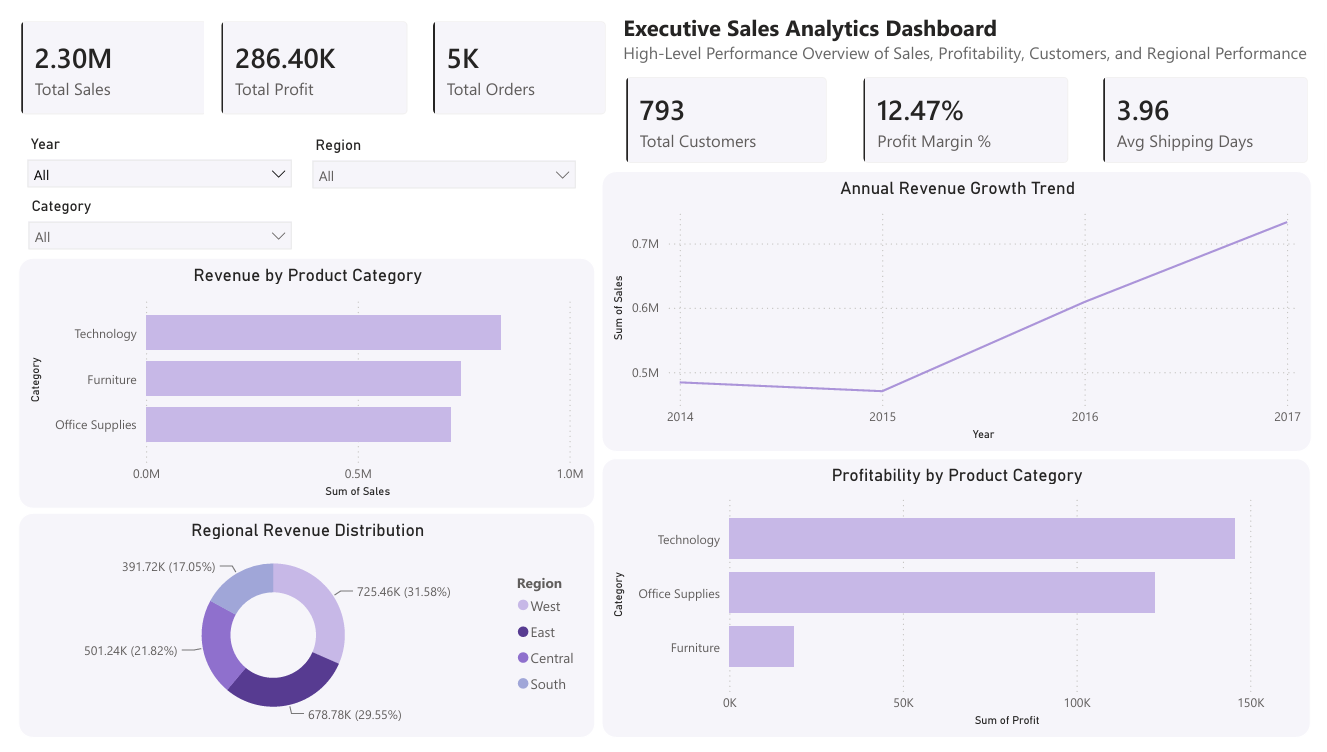

This screenshot's page, from the dashboard's own definition file:
{"tool":"powerbi","page":{"name":"Executive Sales Analytics Dashboard","canvas":[1280,720],"ordinal":0},"visuals":[{"type":"cardVisual","fields":{"Data":["Measure Table.Total Sales"]},"box":[0,0.7,214.3,124.3],"z":0},{"type":"cardVisual","fields":{"Data":["Measure Table.Total Profit"]},"box":[194.3,0,214.3,124.3],"z":1000},{"type":"cardVisual","fields":{"Data":["Measure Table.Total Orders"]},"box":[398.6,0,201.4,124.3],"z":2000},{"type":"cardVisual","fields":{"Data":["Measure Table.Total Customers"]},"box":[585.7,53.8,228.7,117.4],"z":3000},{"type":"cardVisual","fields":{"Data":["Measure Table.Profit Margin %"]},"box":[816.2,53.8,232.5,117.5],"z":4000},{"type":"cardVisual","fields":{"Data":["Measure Table.Avg Shipping Days"]},"box":[1048,53.8,232.3,117.4],"z":5000},{"type":"barChart","title":"Revenue by Product Category","fields":{"Category":["Sample - Superstore.Category"],"Y":["Sum(Sample - Superstore.Sales)"]},"box":[7.1,245.7,565.7,243.6],"z":6000},{"type":"barChart","title":"Profitability by Product Category","fields":{"Category":["Sample - Superstore.Category"],"Y":["Sum(Sample - Superstore.Profit)"]},"box":[579.4,440,696.2,271.2],"z":7000},{"type":"donutChart","title":"Regional Revenue Distribution","fields":{"Category":["Sample - Superstore.Region"],"Y":["Sum(Sample - Superstore.Sales)"]},"box":[7.1,492.9,565.7,217.9],"z":8000},{"type":"slicer","fields":{"Values":["Sample - Superstore.Year"]},"box":[7.1,123.6,275.7,60],"z":9000},{"type":"slicer","fields":{"Values":["Sample - Superstore.Region"]},"box":[289.1,123.6,274.5,76.4],"z":10000},{"type":"slicer","fields":{"Values":["Sample - Superstore.Category"]},"box":[7.1,183.6,274.3,62.1],"z":11000},{"type":"lineChart","title":"Annual Revenue Growth Trend","fields":{"Category":["Sample - Superstore.Year"],"Y":["Sum(Sample - Superstore.Sales)"]},"box":[578.8,162.5,696.9,271.9],"z":12000},{"type":"textbox","box":[595,2.5,673.8,60],"z":13000}]}

Visuals, with their boxes in screenshot pixels (x1, y1, x2, y2), scaled from the page's 1280x720 canvas onto the 1327x752 screenshot:
cardVisual - Measure Table.Total Sales: box(0, 1, 222, 131)
cardVisual - Measure Table.Total Profit: box(201, 0, 424, 130)
cardVisual - Measure Table.Total Orders: box(413, 0, 622, 130)
cardVisual - Measure Table.Total Customers: box(607, 56, 844, 179)
cardVisual - Measure Table.Profit Margin %: box(846, 56, 1087, 179)
cardVisual - Measure Table.Avg Shipping Days: box(1086, 56, 1326, 179)
"Revenue by Product Category" barChart: box(7, 257, 594, 511)
"Profitability by Product Category" barChart: box(601, 460, 1322, 743)
"Regional Revenue Distribution" donutChart: box(7, 515, 594, 742)
slicer - Sample - Superstore.Year: box(7, 129, 293, 192)
slicer - Sample - Superstore.Region: box(300, 129, 584, 209)
slicer - Sample - Superstore.Category: box(7, 192, 292, 257)
"Annual Revenue Growth Trend" lineChart: box(600, 170, 1323, 454)
textbox: box(617, 3, 1315, 65)
